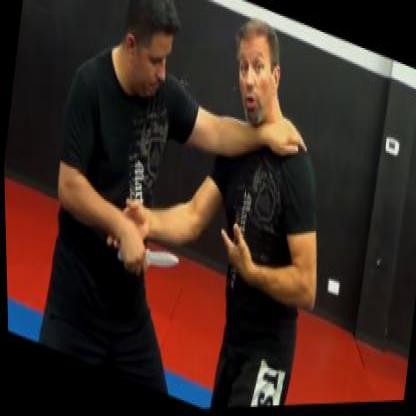knife: (112, 226, 178, 290)
